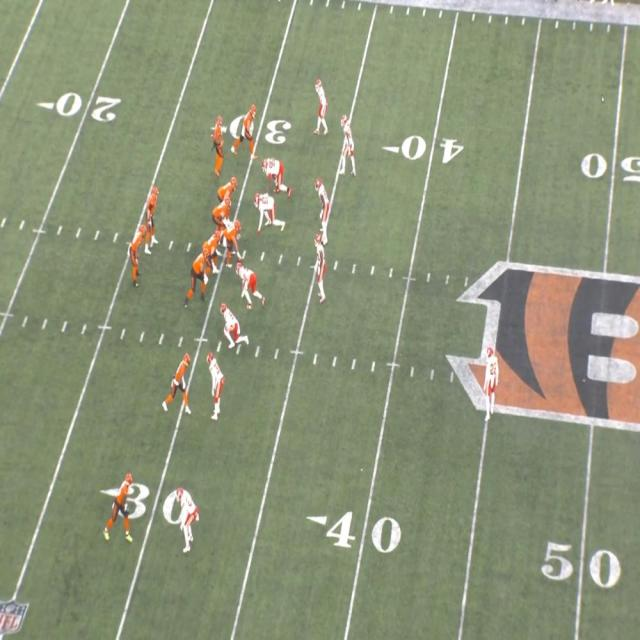center: (226, 220, 246, 257)
db: (176, 492, 198, 552), (206, 353, 225, 416), (341, 114, 357, 171), (485, 349, 497, 418), (312, 82, 327, 136)
lb: (313, 232, 327, 304), (145, 188, 163, 242), (220, 304, 240, 348), (312, 179, 331, 225)
skill: (103, 475, 138, 539), (164, 354, 193, 408), (235, 110, 258, 150), (210, 115, 224, 168), (127, 242, 142, 286)
